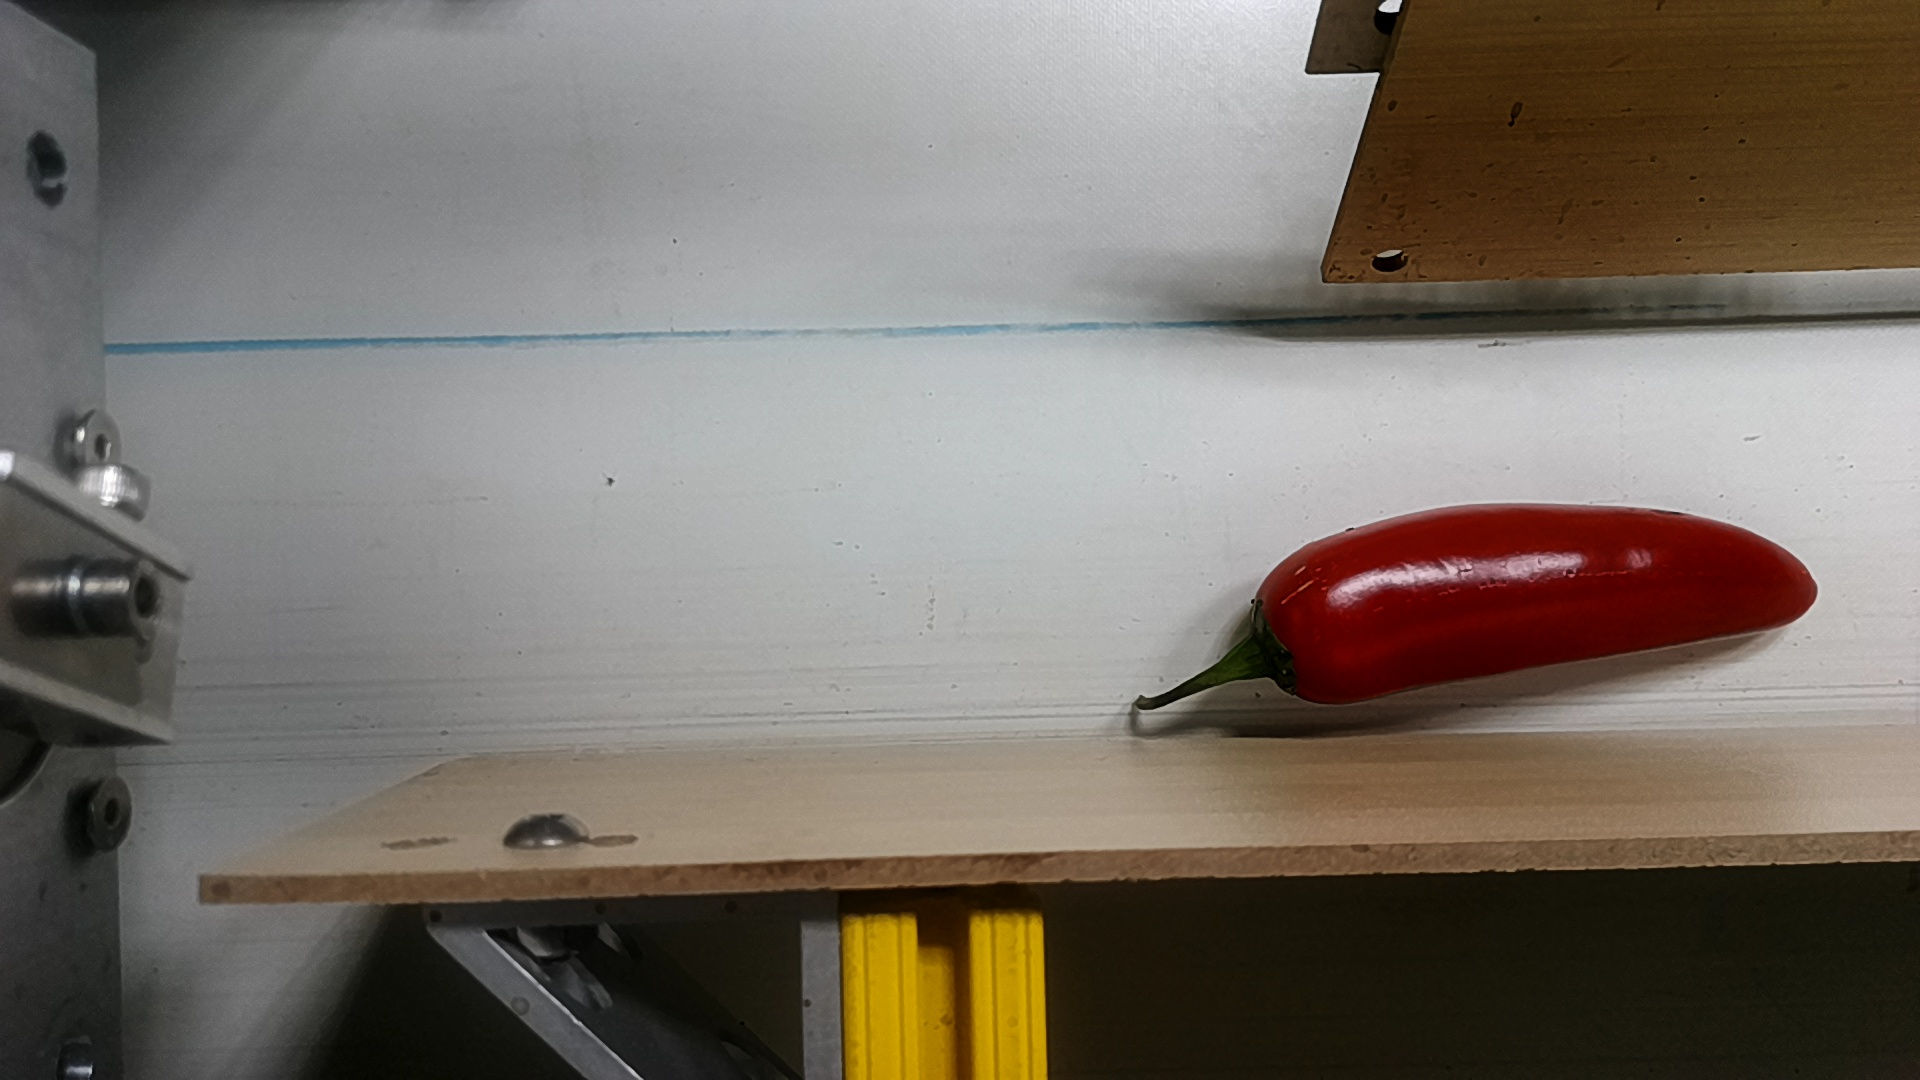Cut Point: (1228, 556, 1346, 709)
